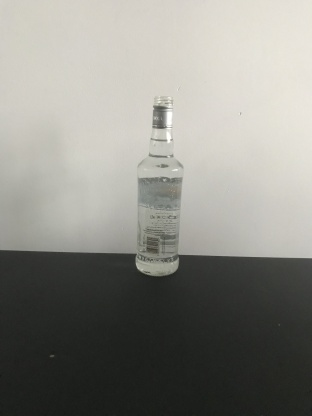nakretka: (150, 93, 174, 130)
